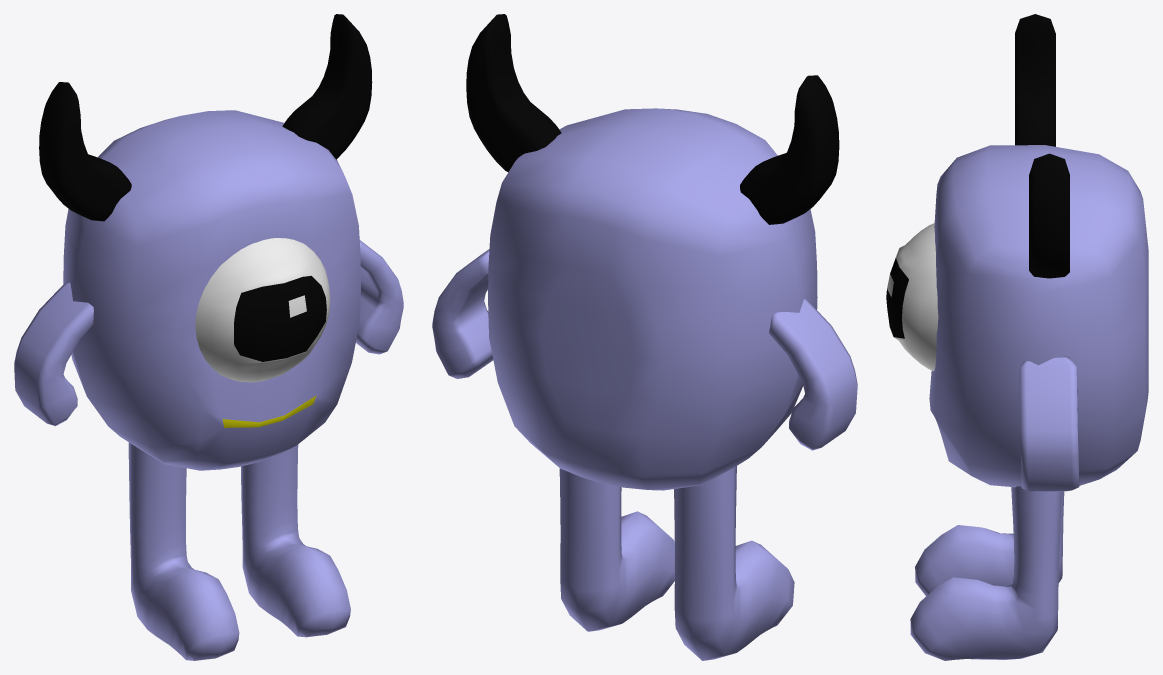
3 renders of one model, left to right at view 1: azimuth 30°, elevation 25°; view 2: azimuth 150°, elevation 25°; view 3: azimuth 270°, elevation 25°, orthographic. The views are drawn at different scales.
Visible parts, largest first — view 1: body1, eye1, leg_right, leg_left, head1, arm_left, head2, arm_right; view 2: body1, leg_right, leg_left, head1, arm_left, head2, arm_right; view 3: body1, leg_left, arm_right, eye1, leg_right, head1, head2.
Part boxes in pixels (bbox=[...]): body1: bbox=[63, 110, 360, 470]; eye1: bbox=[195, 238, 330, 382]; leg_right: bbox=[128, 442, 239, 660]; leg_left: bbox=[241, 444, 350, 637]; head1: bbox=[39, 82, 131, 221]; arm_left: bbox=[14, 282, 93, 426]; head2: bbox=[282, 14, 372, 159]; arm_right: bbox=[356, 240, 403, 354]; body1: bbox=[488, 108, 817, 490]; leg_right: bbox=[674, 466, 794, 660]; leg_left: bbox=[559, 468, 674, 631]; head1: bbox=[740, 75, 839, 224]; arm_left: bbox=[769, 298, 857, 450]; head2: bbox=[466, 14, 561, 172]; arm_right: bbox=[432, 249, 493, 378]; body1: bbox=[929, 145, 1148, 487]; leg_left: bbox=[910, 486, 1061, 660]; arm_right: bbox=[1019, 356, 1079, 491]; eye1: bbox=[886, 223, 938, 371]; leg_right: bbox=[915, 491, 1064, 596]; head1: bbox=[1015, 14, 1055, 146]; head2: bbox=[1029, 153, 1069, 278].
Bounding box in the file's own units: 5.02 × 7.41 × 3.2.
